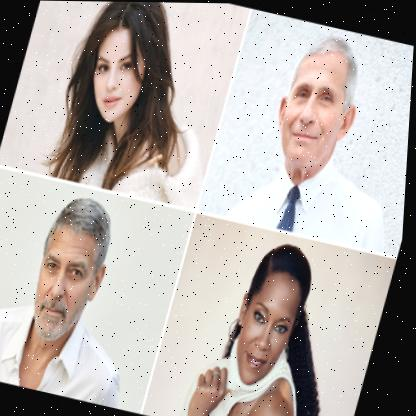person: (15, 187, 131, 360), (255, 23, 376, 187), (213, 236, 323, 392), (64, 1, 177, 138)
